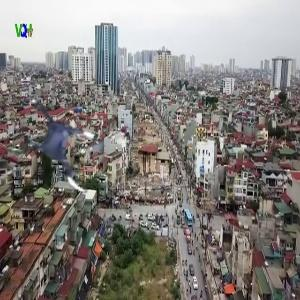drone: (18, 100, 115, 197)
